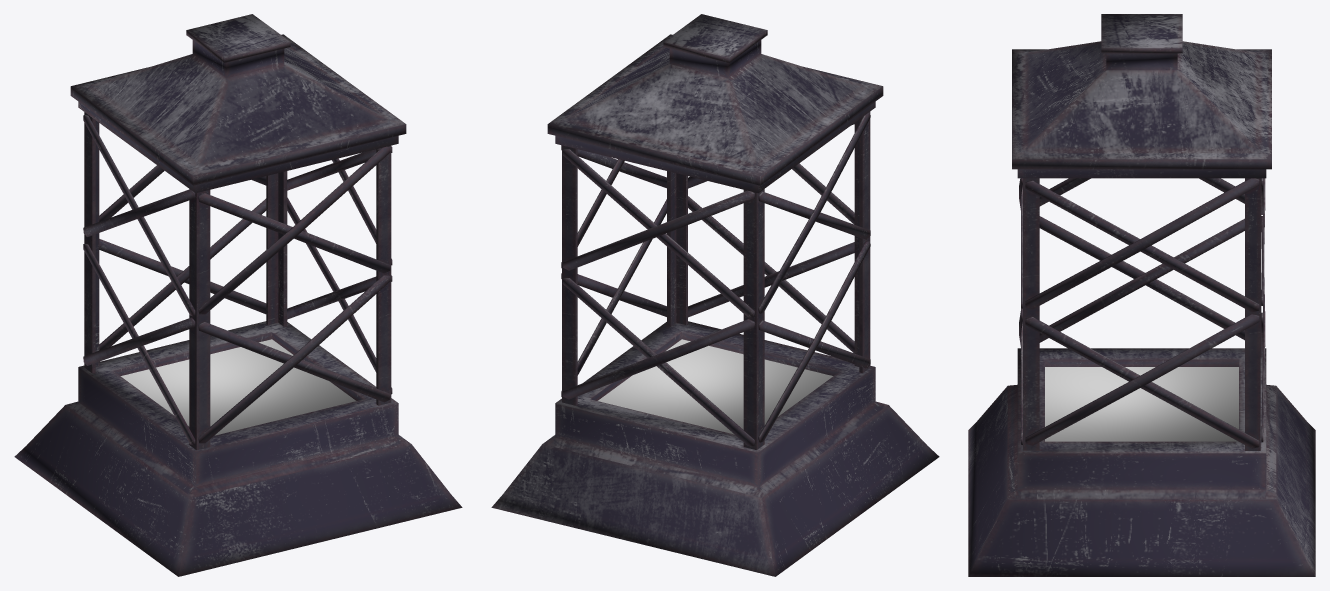
Rendered from lantern.obj.
The picture shows the model from 3 angles, left to right: view 1: azimuth 30°, elevation 25°; view 2: azimuth 150°, elevation 25°; view 3: azimuth 270°, elevation 25°; orthographic projection. The views are drawn at different scales.
Parts seen in each view (by area): view 1: Lantern; view 2: Lantern; view 3: Lantern.
Part boxes in pixels (left/top/right/bottom): Lantern: left=14, top=14, right=462, bottom=576; Lantern: left=491, top=14, right=939, bottom=576; Lantern: left=968, top=14, right=1315, bottom=576.
Size of the model in its own units: 0.5 by 0.75 by 0.5.
